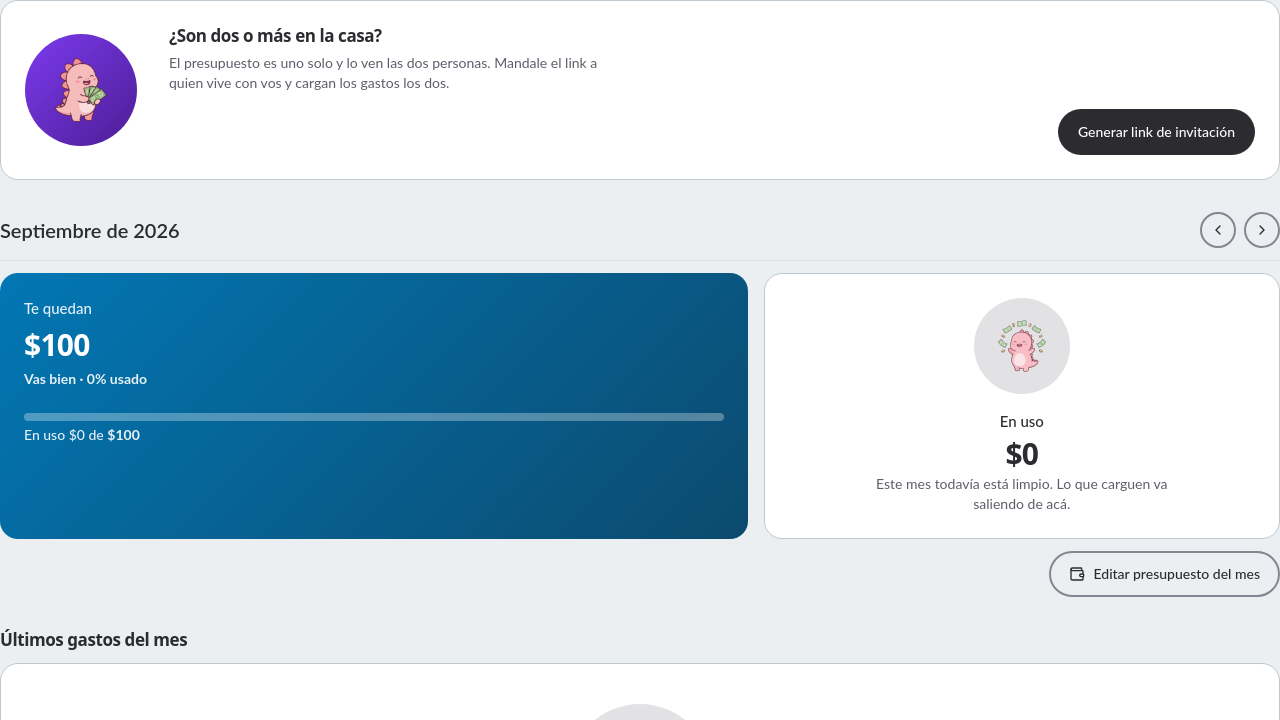
Test case: HomePage › pages one month ahead to plan it, hiding the always-empty recent gastos
The width and height of the screenshot is (1280, 720).
Step 1. Click the button named "Mes siguiente" → (1262, 230), box [1244,212,1279,248]
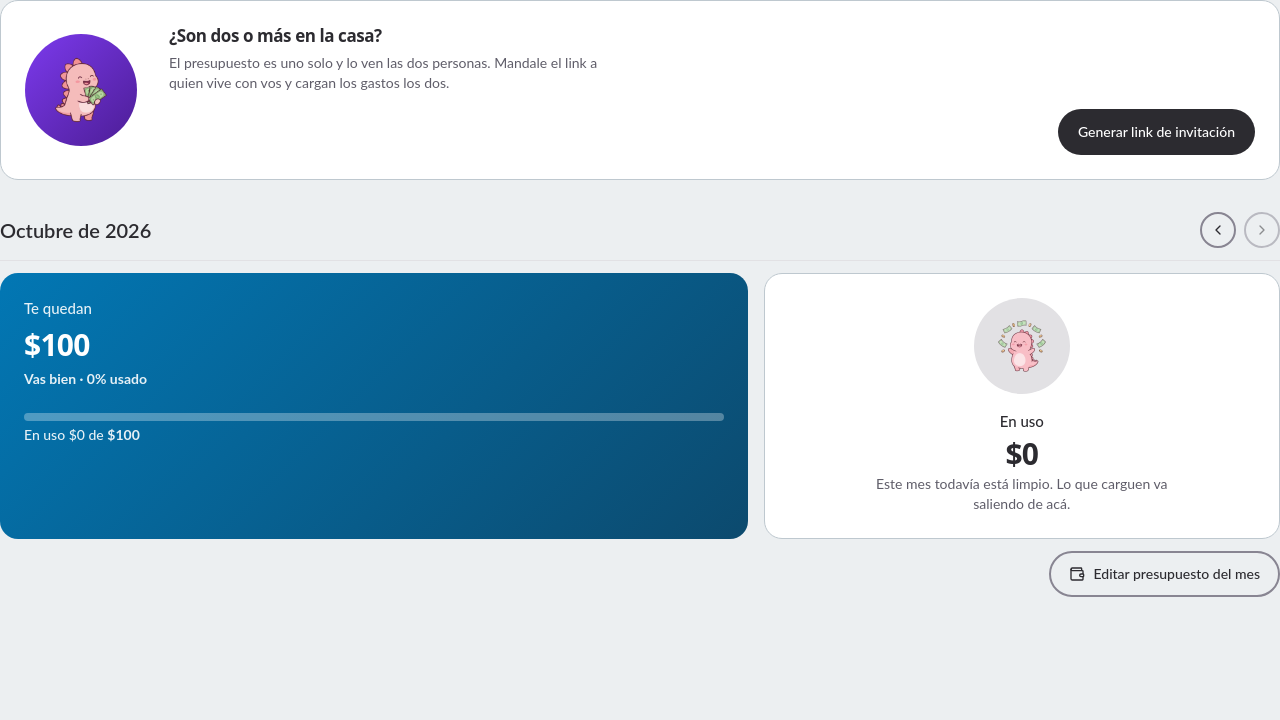
Result: the button named "Mes siguiente" is disabled at [1244,212,1279,248]
Result: the heading "Últimos gastos del mes" is gone
